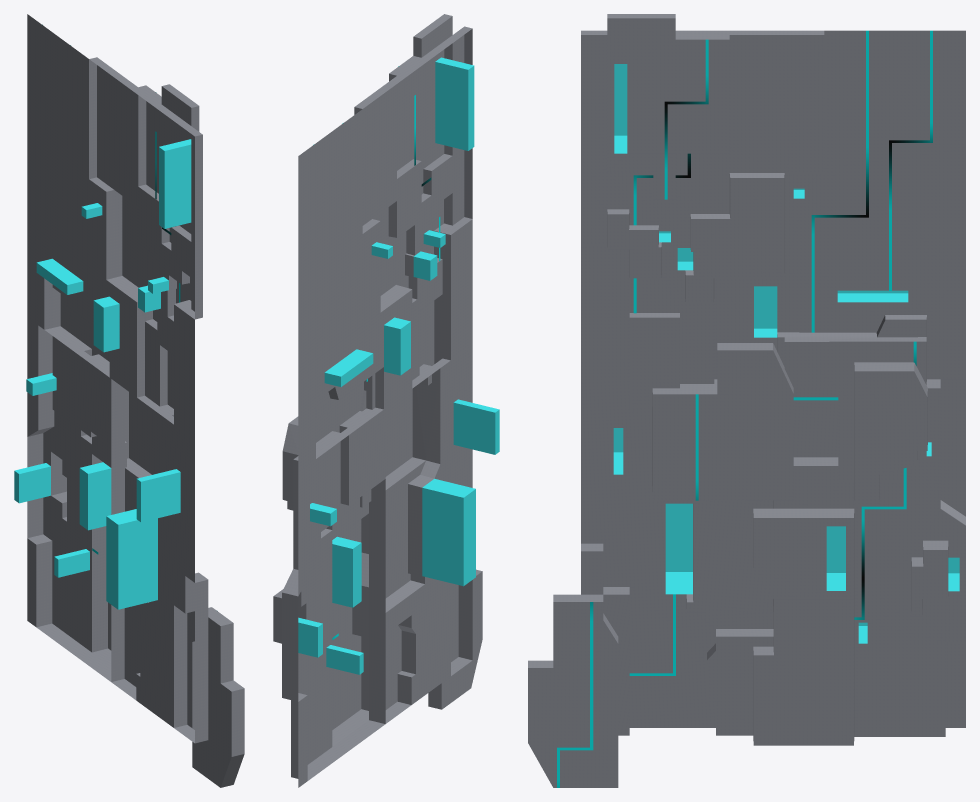
File: AllRoomCa.fbx
3 renders of one model, left to right at view 1: azimuth 30°, elevation 25°; view 2: azimuth 150°, elevation 25°; view 3: azimuth 270°, elevation 25°, orthographic. The views are drawn at different scales.
Parts seen in each view (by area): view 1: SM_VA_AllRoomCa.mo; view 2: SM_VA_AllRoomCa.mo; view 3: SM_VA_AllRoomCa.mo.
Part boxes in pixels (box(x1,y1,x2,y2)): SM_VA_AllRoomCa.mo: box(14, 14, 244, 787); SM_VA_AllRoomCa.mo: box(273, 14, 499, 787); SM_VA_AllRoomCa.mo: box(528, 14, 965, 787).
Size of the model in its own units: 49.5 by 438 by 228.
